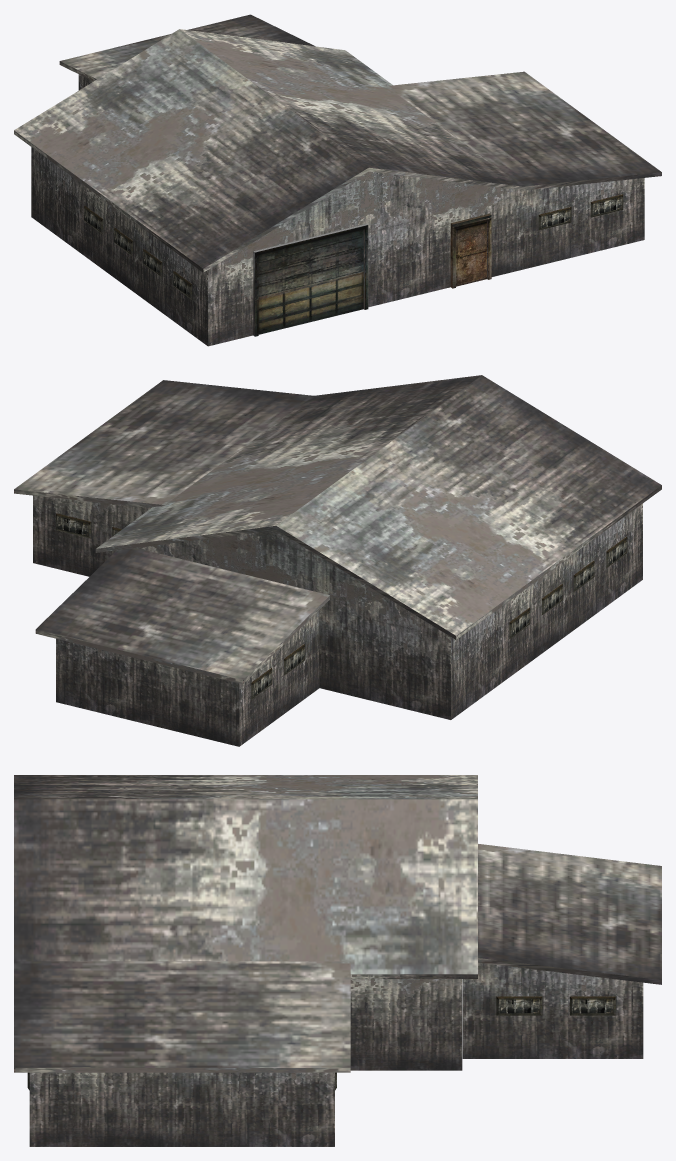
The model's file is warehs06.glb.
The picture shows the model from 3 angles, top to bottom: view 1: azimuth 30°, elevation 25°; view 2: azimuth 150°, elevation 25°; view 3: azimuth 270°, elevation 25°; orthographic projection. The views are drawn at different scales.
Parts seen in each view (by area): view 1: _warehs06; view 2: _warehs06; view 3: _warehs06.
Part boxes in pixels (<box>): _warehs06: <box>14,14,661,346</box>; _warehs06: <box>14,375,661,746</box>; _warehs06: <box>14,775,661,1146</box>.
Size of the model in its own units: 21.79 by 6.62 by 21.76.
1 material, 1 textured.
